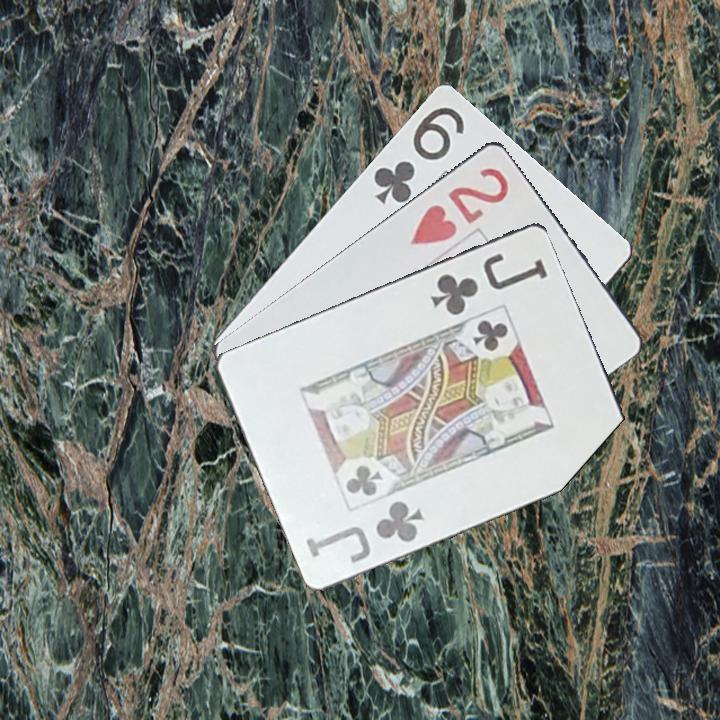2h: (406, 163, 512, 248)
6c: (369, 101, 468, 207)
Jc: (302, 496, 428, 566), (427, 248, 551, 318)
